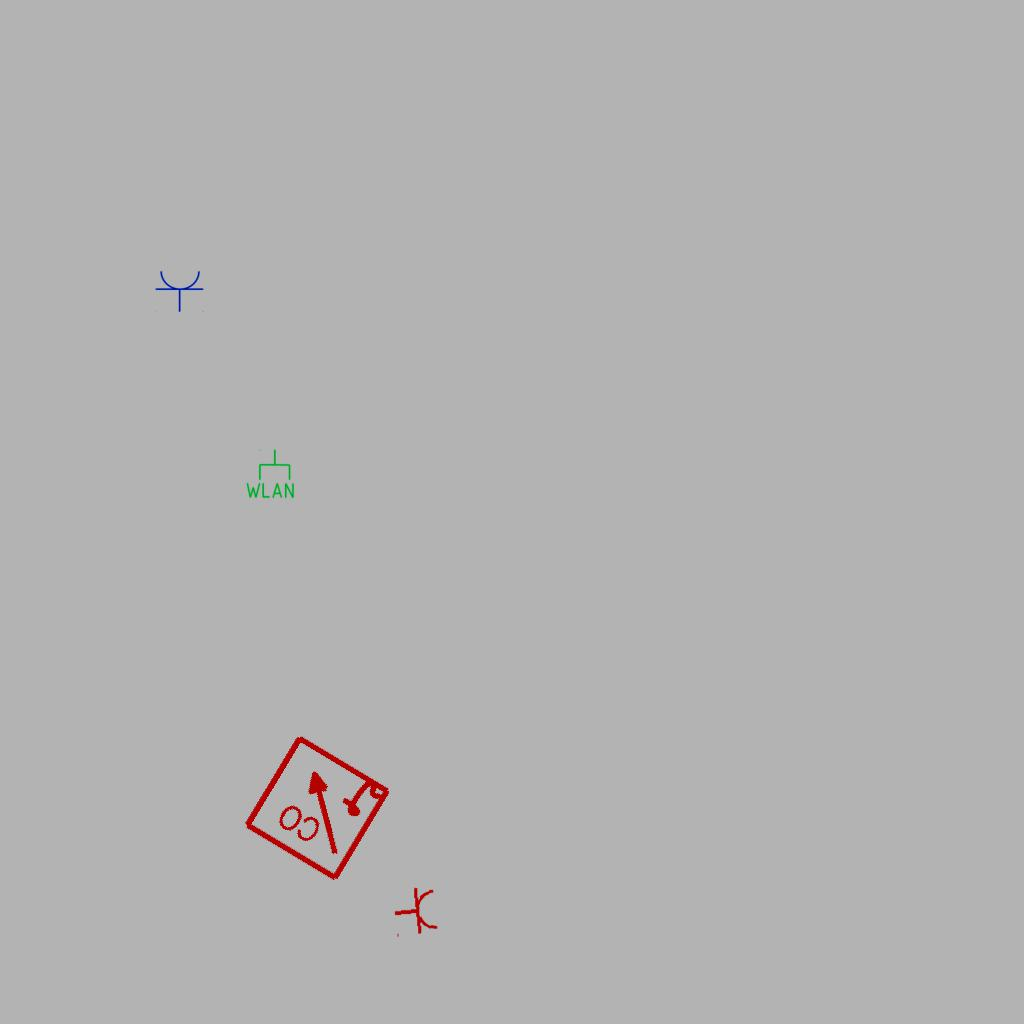ROA_Rauchmelder_optisch_mit_Signalgeber_(Sockelsirene): (239, 728, 396, 885)
Schukosteckdose_einfach: (391, 884, 440, 940), (155, 269, 205, 312)
WLAN: (244, 448, 296, 500)
